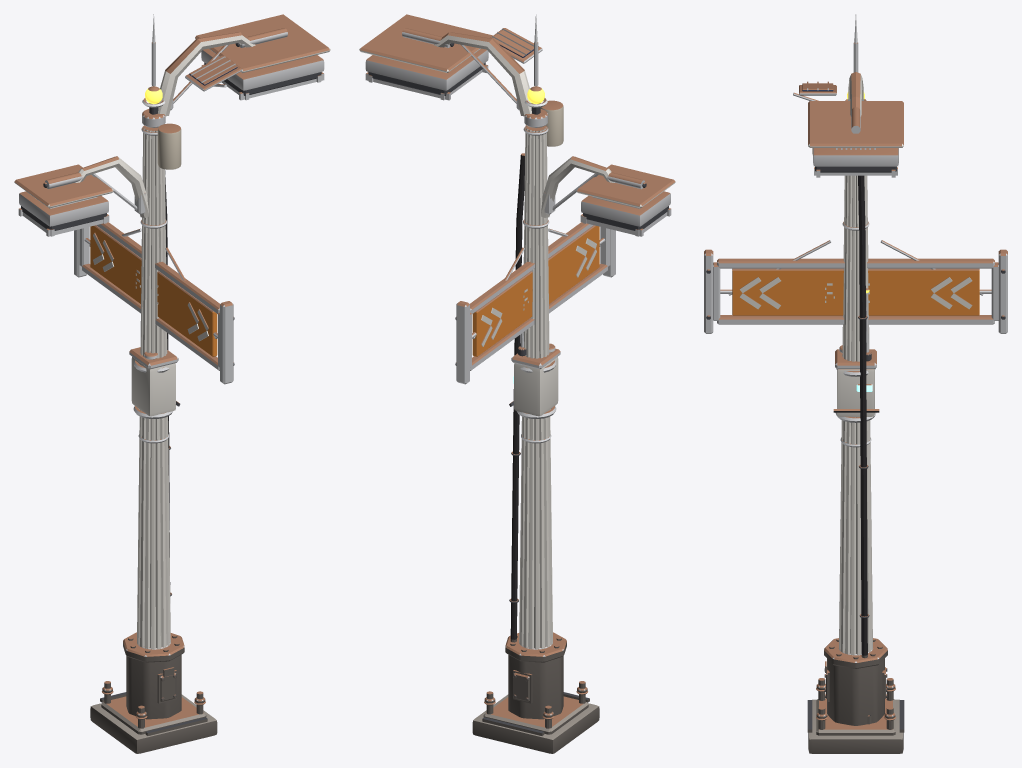
Rendered from lamp.glb.
The picture shows the model from 3 angles, left to right: view 1: azimuth 30°, elevation 25°; view 2: azimuth 150°, elevation 25°; view 3: azimuth 270°, elevation 25°; orthographic projection.
Visible parts, largest first — view 1: lamp_shell; view 2: lamp_shell; view 3: lamp_shell.
Boxes of the visible parts, x1,y1,x2,y2 form: lamp_shell: [14, 14, 330, 753]; lamp_shell: [359, 14, 675, 753]; lamp_shell: [704, 14, 1007, 753].
Size of the model in its own units: 2.03 by 5.01 by 1.91.
